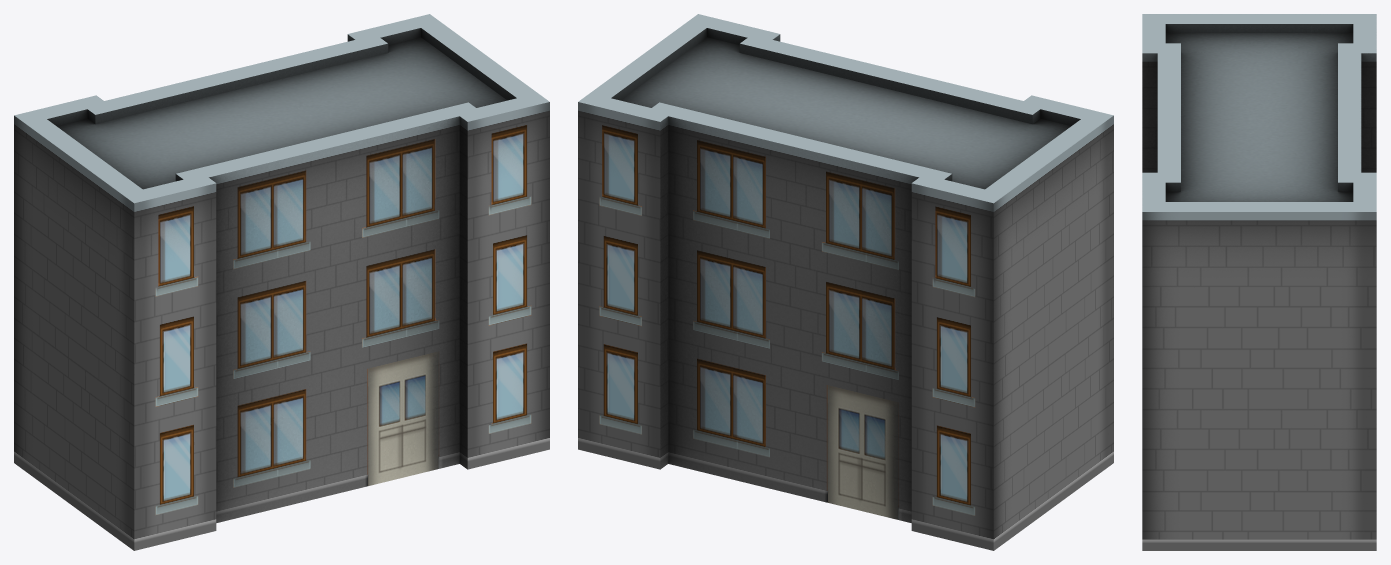
File: Building_House_03.FBX
The picture shows the model from 3 angles, left to right: view 1: azimuth 30°, elevation 25°; view 2: azimuth 150°, elevation 25°; view 3: azimuth 270°, elevation 25°; orthographic projection. The views are drawn at different scales.
Parts seen in each view (by area): view 1: OBJ_Building_House_03; view 2: OBJ_Building_House_03; view 3: OBJ_Building_House_03.
Part boxes in pixels (bbox=[...]): OBJ_Building_House_03: bbox=[14, 14, 549, 550]; OBJ_Building_House_03: bbox=[578, 14, 1113, 550]; OBJ_Building_House_03: bbox=[1142, 14, 1376, 550].
Bounding box in the file's own units: 19.98 × 15.97 × 10.
